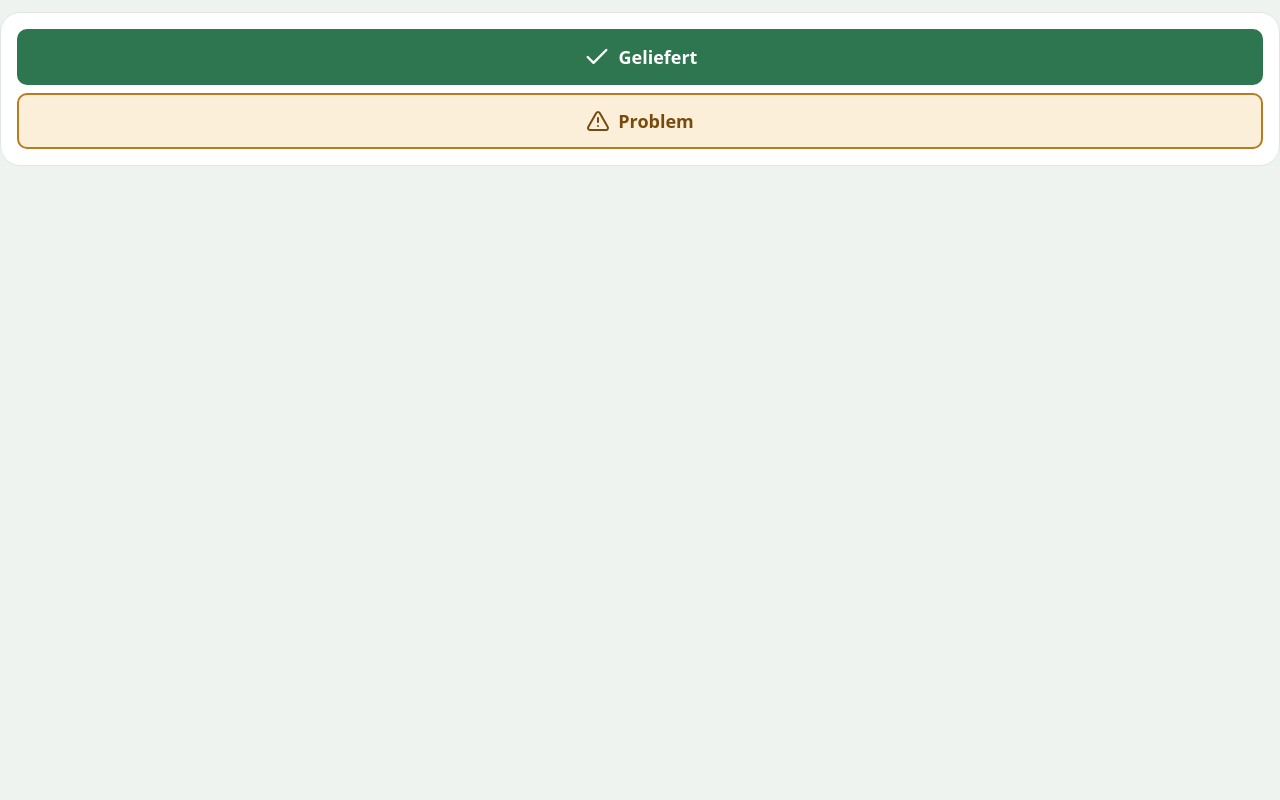
Test: StopStatusActions in de › reports a problem with a reason and a free text
The image size is (1280, 800).
Later steps or results of the test are not shown.
Click the button with test id "btn-problem".
click(640, 121)  # box [17,93,1263,149]
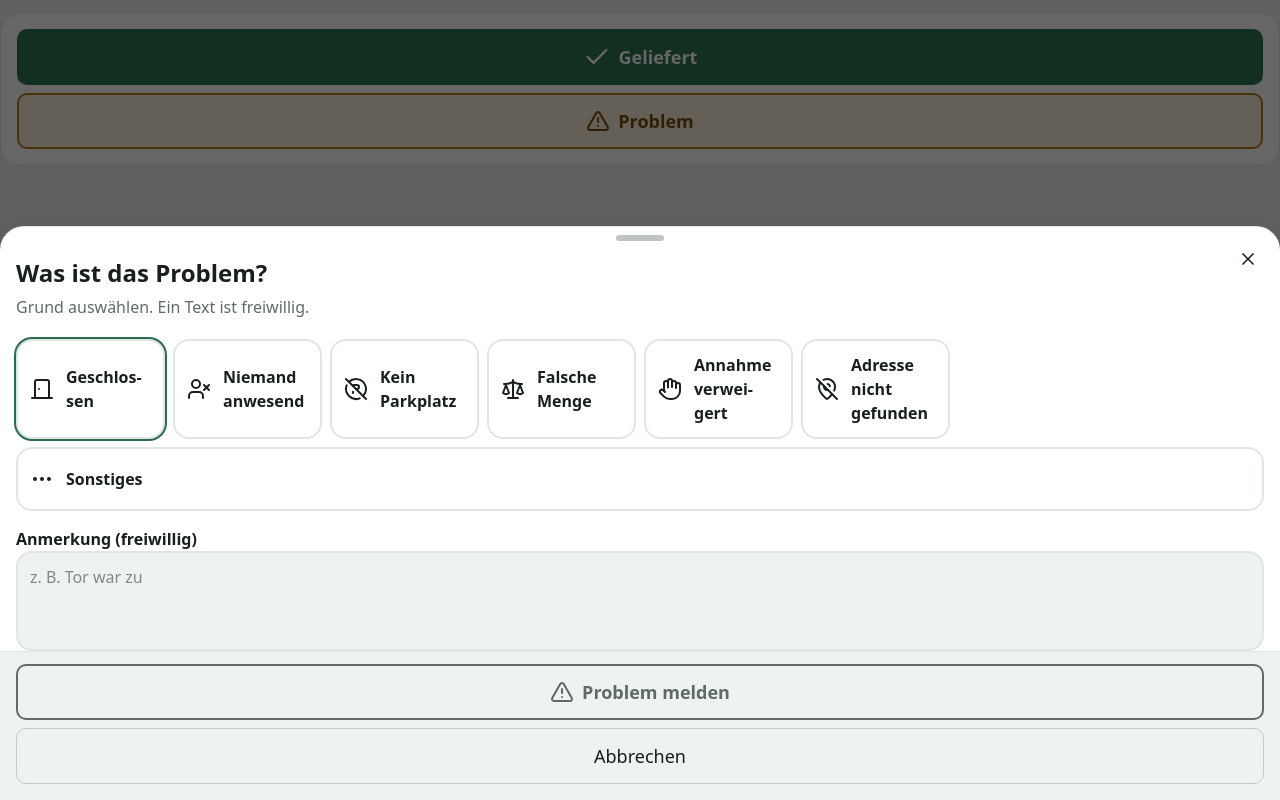
Expected: the button with test id "problem-submit" is disabled, [16,664,1264,720]
Click the button with test id "reason-NO_PARKING".
click(404, 389)  # box [330,339,479,439]
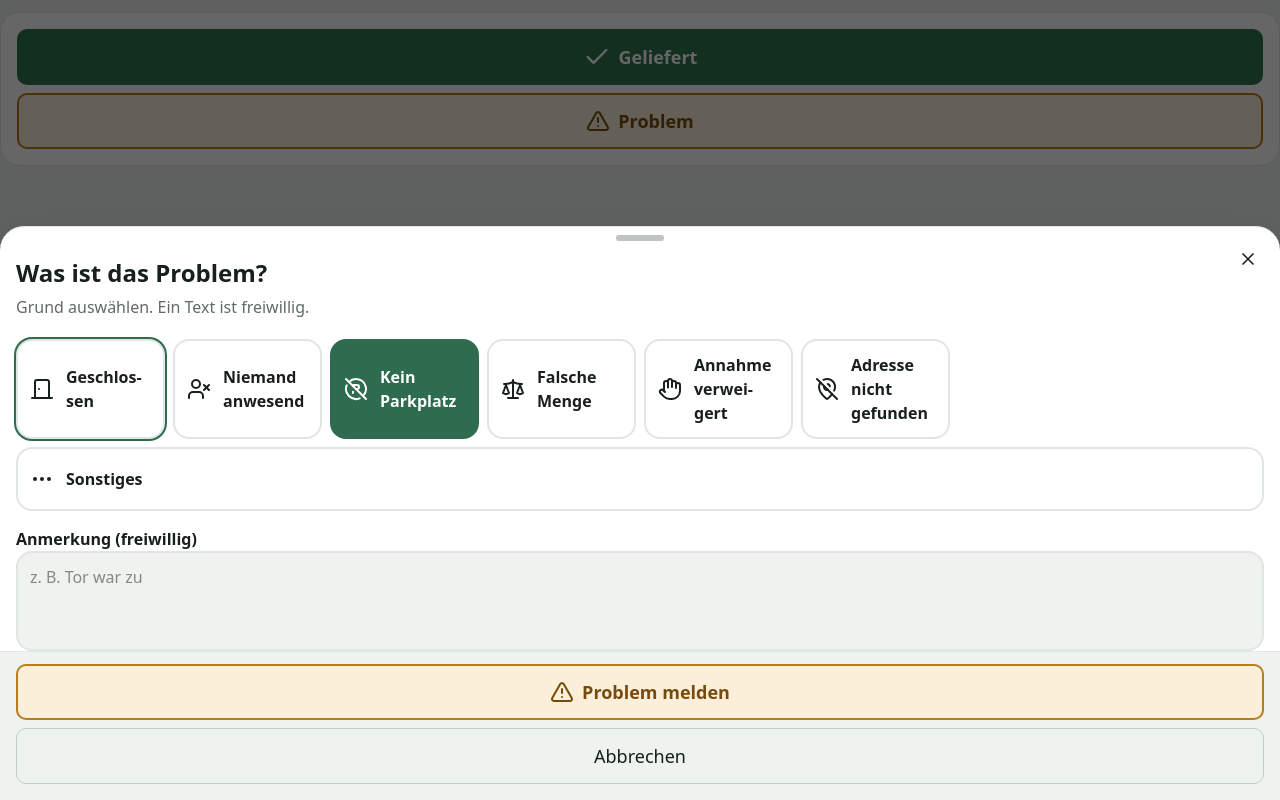
Expected: the button with test id "reason-NO_PARKING" is pressed, [330,339,479,439]
